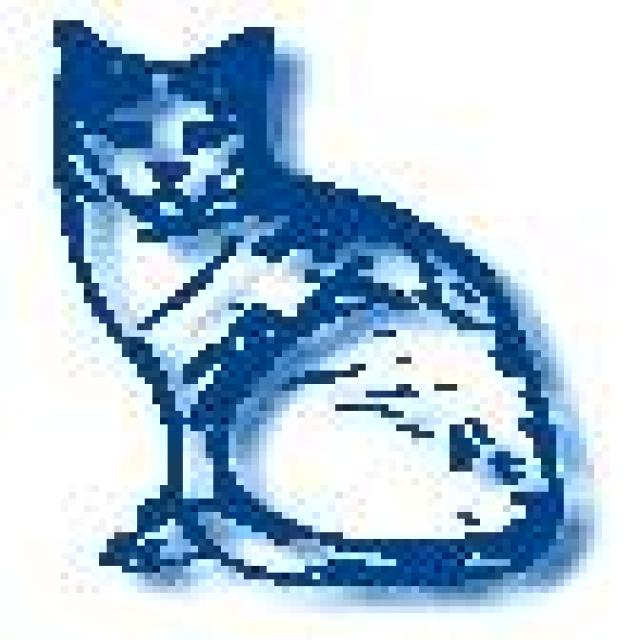cat: (0, 2, 622, 617)
